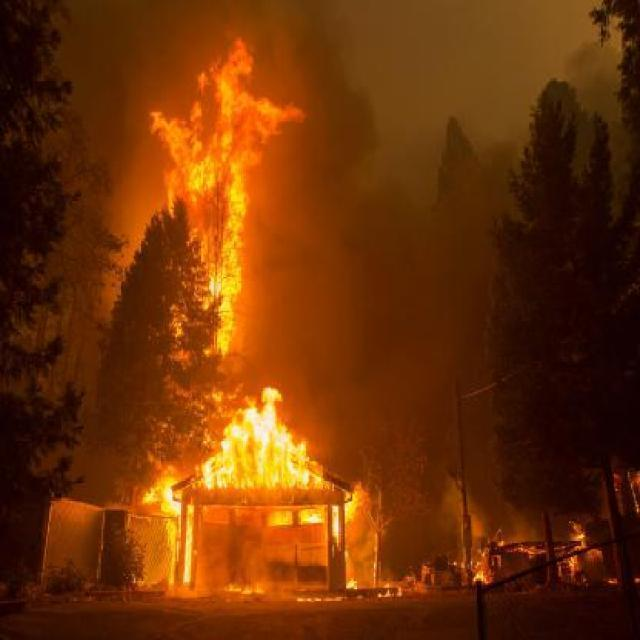Fire: (148, 34, 310, 216), (199, 386, 314, 484), (212, 215, 244, 355)
